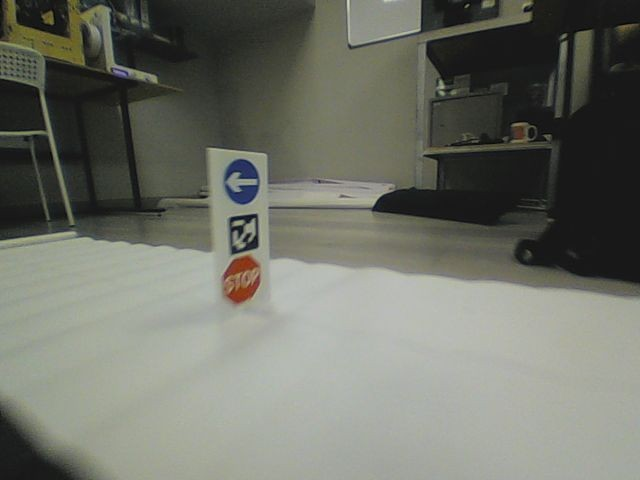Stop: (220, 255, 263, 304)
